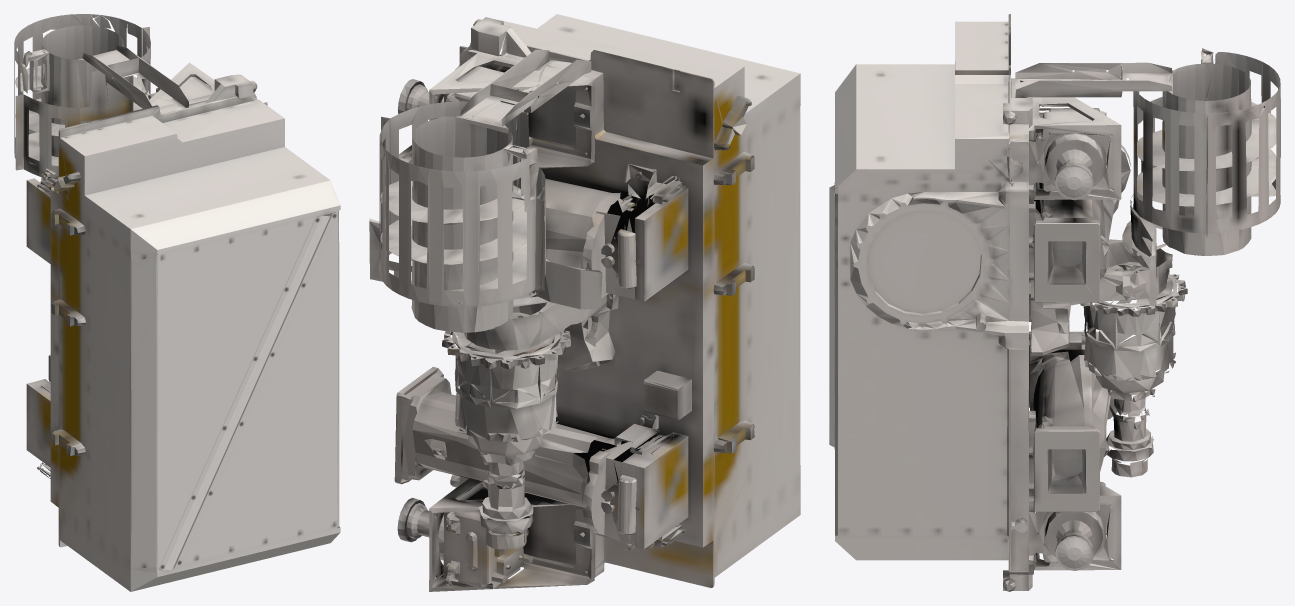
File: RSM_Head.gltf
3 views of the same model, side by side, from view 1: azimuth 30°, elevation 25°; view 2: azimuth 150°, elevation 25°; view 3: azimuth 270°, elevation 25° (orthographic). The views are drawn at different scales.
Parts seen in each view (by area): view 1: Mesh_0; view 2: Mesh_0; view 3: Mesh_0.
Boxes of the visible parts, x1,y1,x2,y2 form: Mesh_0: (14,14,340,591); Mesh_0: (369,14,800,591); Mesh_0: (829,14,1280,591).
Size of the model in its own units: 0.3037 by 0.5494 by 0.468.
Materials: 1 (1 with a texture image).
